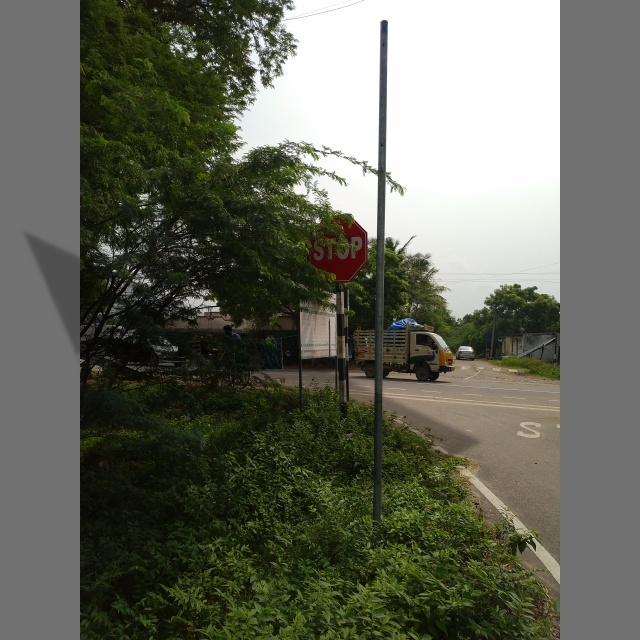Stop: (310, 216, 366, 285)
